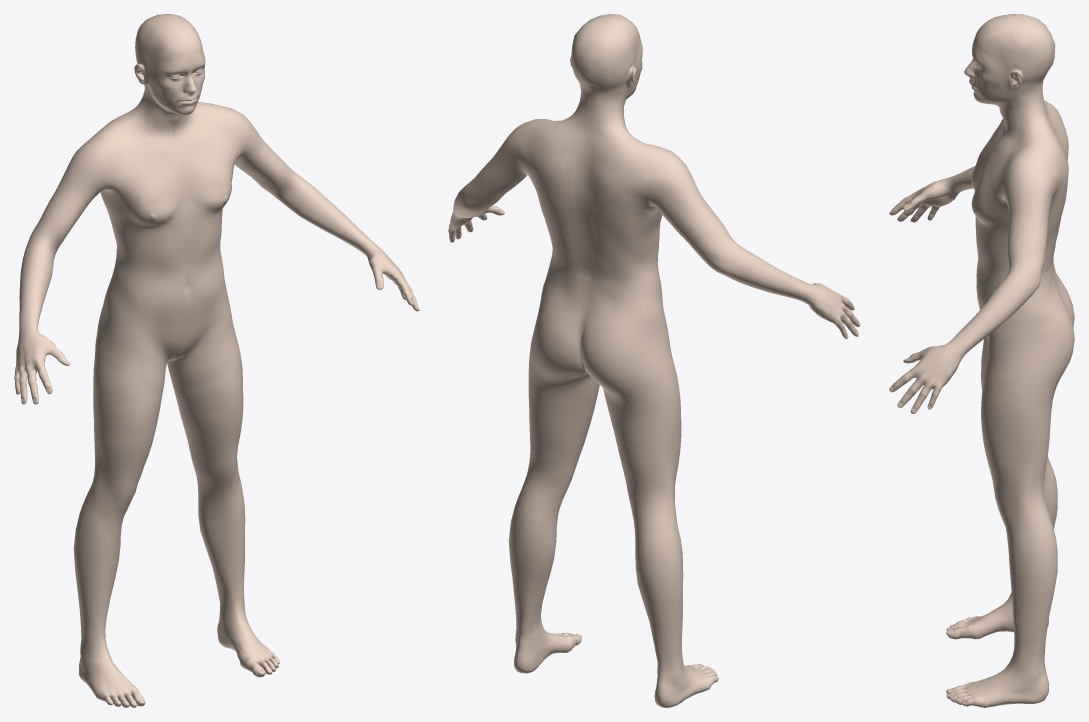
File: personagem_humano_realista.glb
The picture shows the model from 3 angles, left to right: view 1: azimuth 30°, elevation 25°; view 2: azimuth 150°, elevation 25°; view 3: azimuth 270°, elevation 25°; orthographic projection.
Parts seen in each view (by area): view 1: HumanBody; view 2: HumanBody; view 3: HumanBody.
Part boxes in pixels (x1=…): HumanBody: x1=14, y1=14, x2=419, y2=707; HumanBody: x1=448, y1=14, x2=860, y2=707; HumanBody: x1=889, y1=14, x2=1074, y2=707.
Bounding box in the file's own units: 1.14 × 1.79 × 0.4639.
